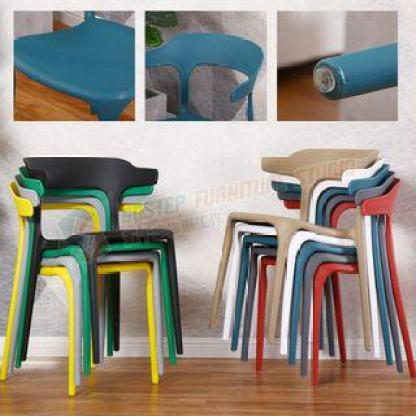chair: (5, 148, 195, 411)
